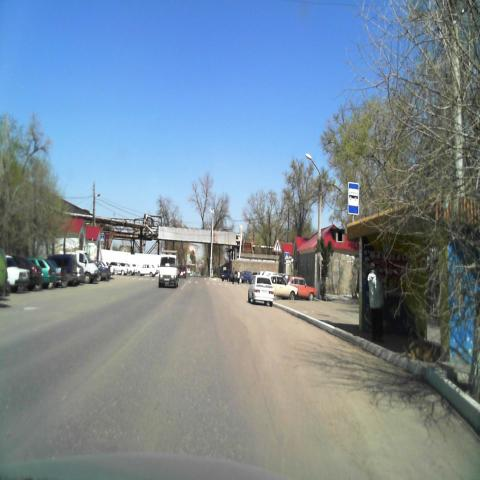1_20: (272, 237, 282, 252)
